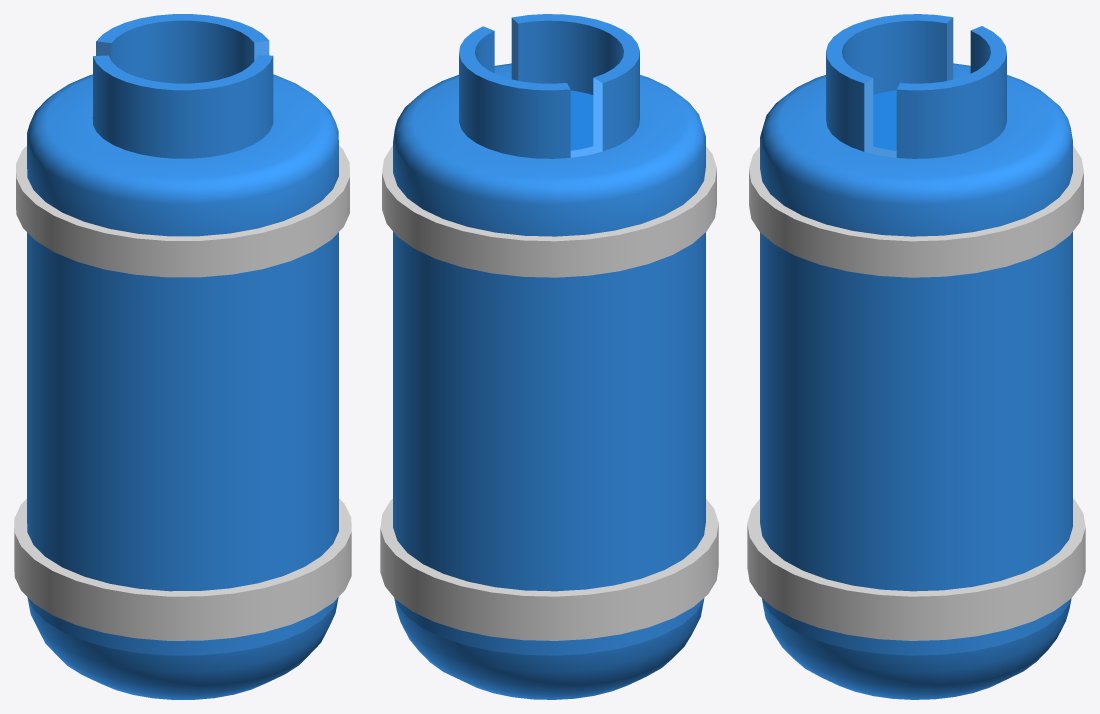
The model's file is GasBlue.fbx.
3 renders of one model, left to right at view 1: azimuth 30°, elevation 25°; view 2: azimuth 150°, elevation 25°; view 3: azimuth 270°, elevation 25°, orthographic.
Parts seen in each view (by area): view 1: Gas.Blue; view 2: Gas.Blue; view 3: Gas.Blue.
Part boxes in pixels (box(x1,y1,x2,y2)): Gas.Blue: box(14, 14, 351, 699); Gas.Blue: box(380, 14, 718, 699); Gas.Blue: box(747, 14, 1085, 699).
Size of the model in its own units: 48.07 by 96.97 by 48.07.
